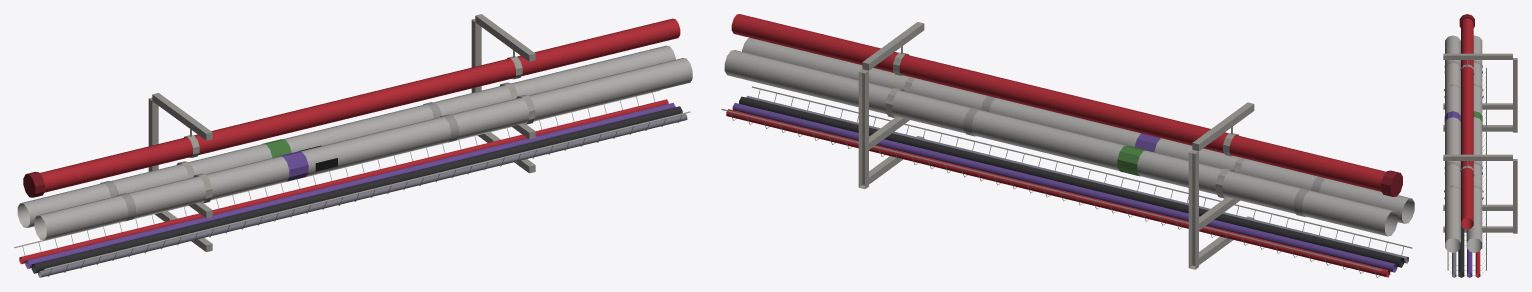
File: pipe_run.glb
The picture shows the model from 3 angles, left to right: view 1: azimuth 30°, elevation 25°; view 2: azimuth 150°, elevation 25°; view 3: azimuth 270°, elevation 25°; orthographic projection. The views are drawn at different scales.
Visible parts, largest first — view 1: pipe_run; view 2: pipe_run; view 3: pipe_run.
Part boxes in pixels (x1=…): pipe_run: x1=14, y1=14, x2=692, y2=277; pipe_run: x1=721, y1=14, x2=1414, y2=277; pipe_run: x1=1443, y1=14, x2=1517, y2=277.
Size of the model in its own units: 4 by 0.71 by 0.62.
